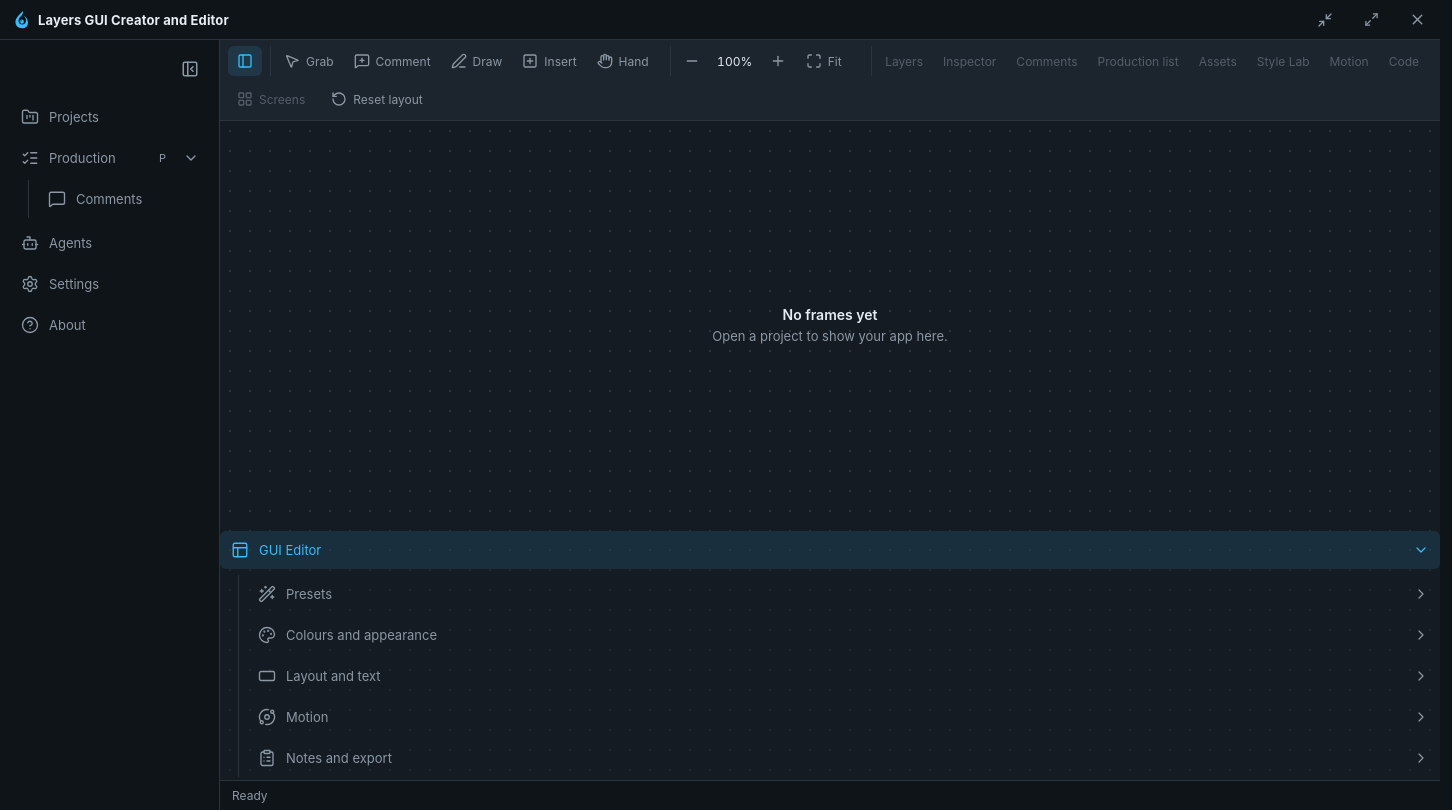
Test case: collapses navigation and keeps icon labels accessible
Click the button named "collapse navigation": click(190, 69) [171, 50, 209, 88]
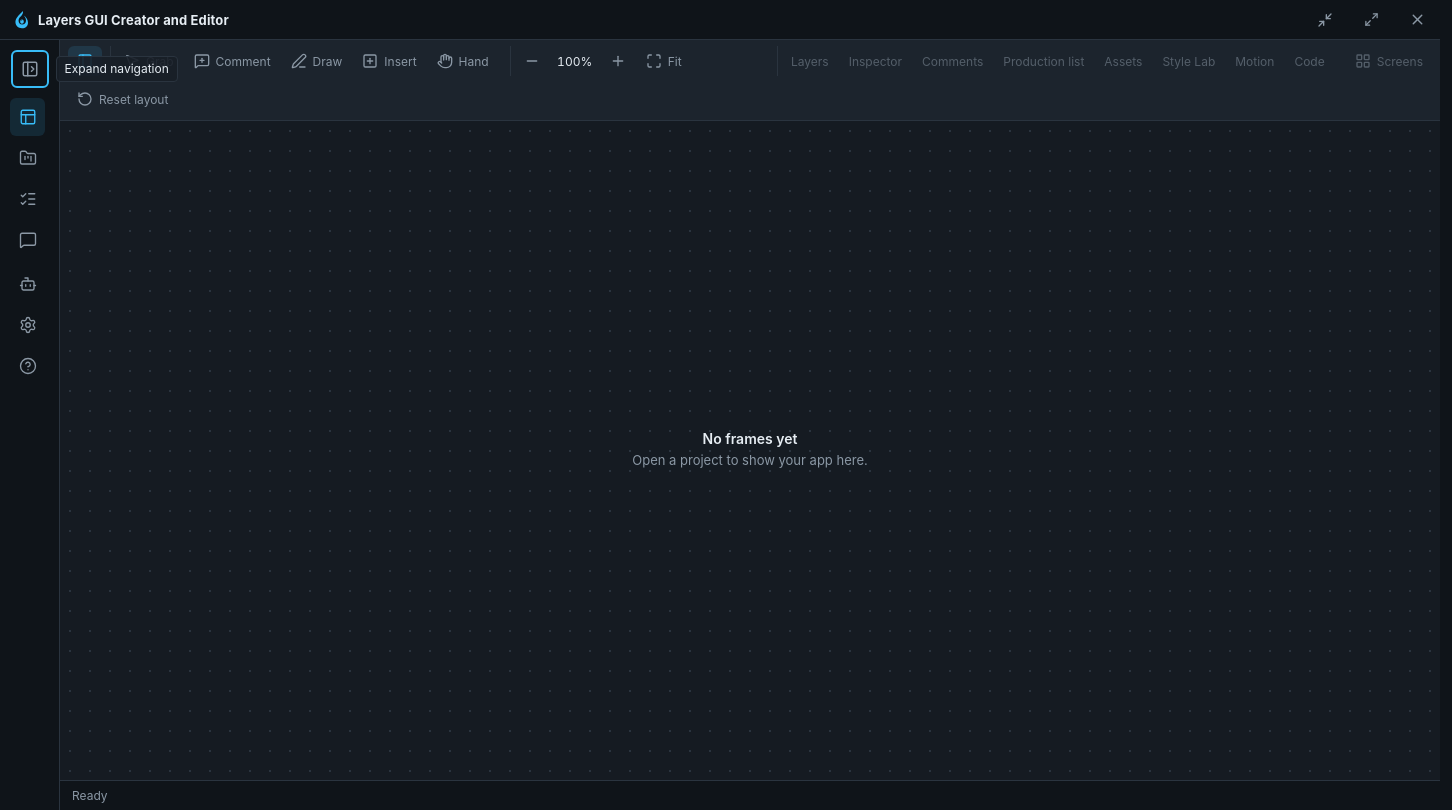
Expected: the button named "Projects" is shown, [10, 139, 45, 177]
Expected: the navigation bar has attribute data-collapsed="true", [0, 40, 60, 809]
